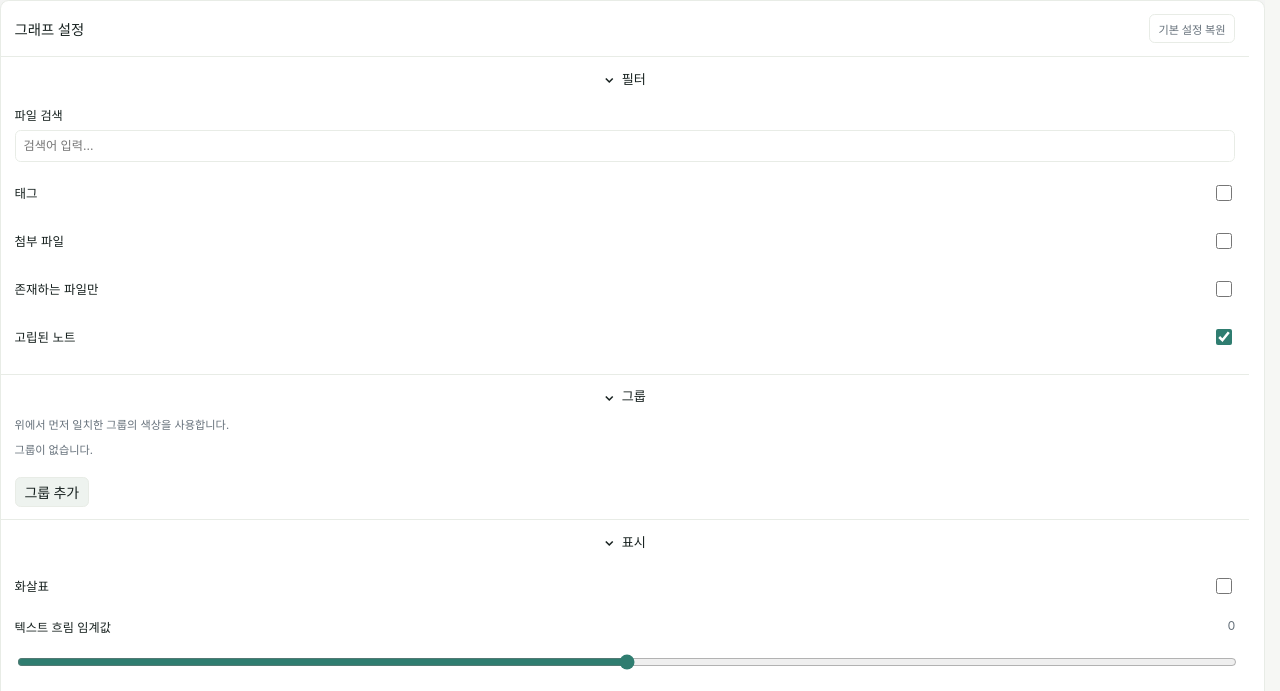
Test: GraphSettingsDrawer › reports collapsible section state for encrypted workspace persistence
Click the button "⌄ 필터" at (625, 78), box [1,57,1249,99]
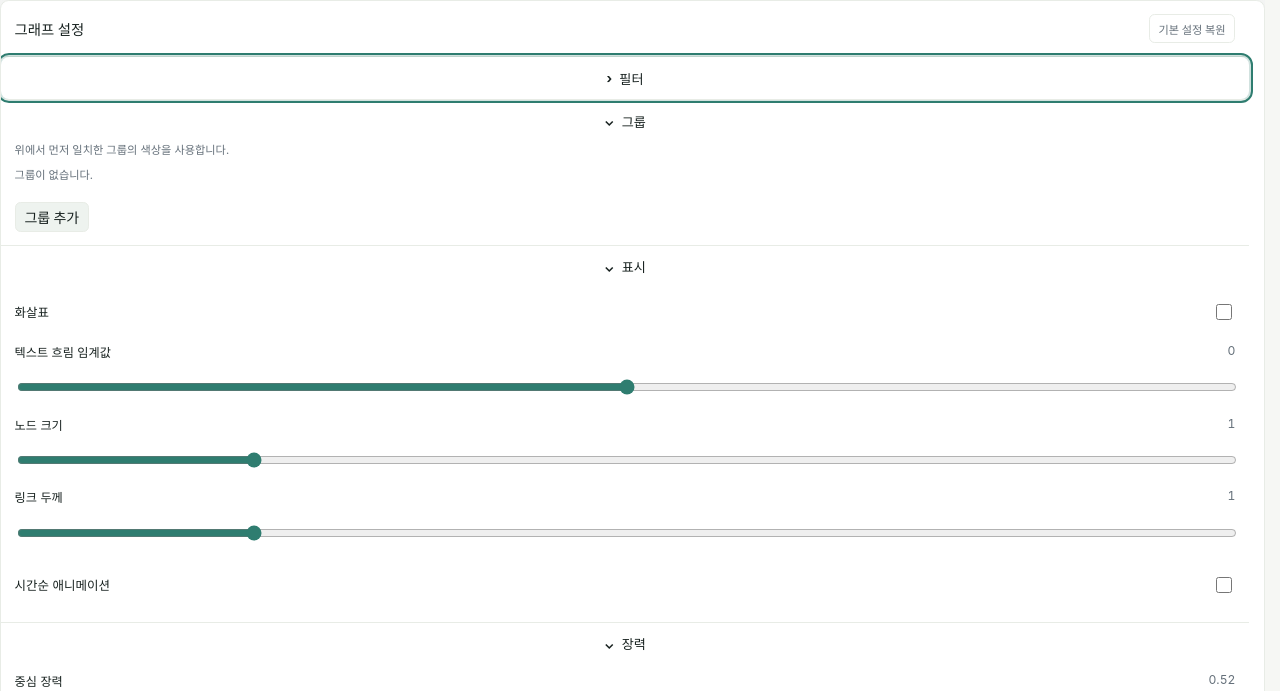
Result: the button "› 필터" is collapsed at [1,57,1249,99]
